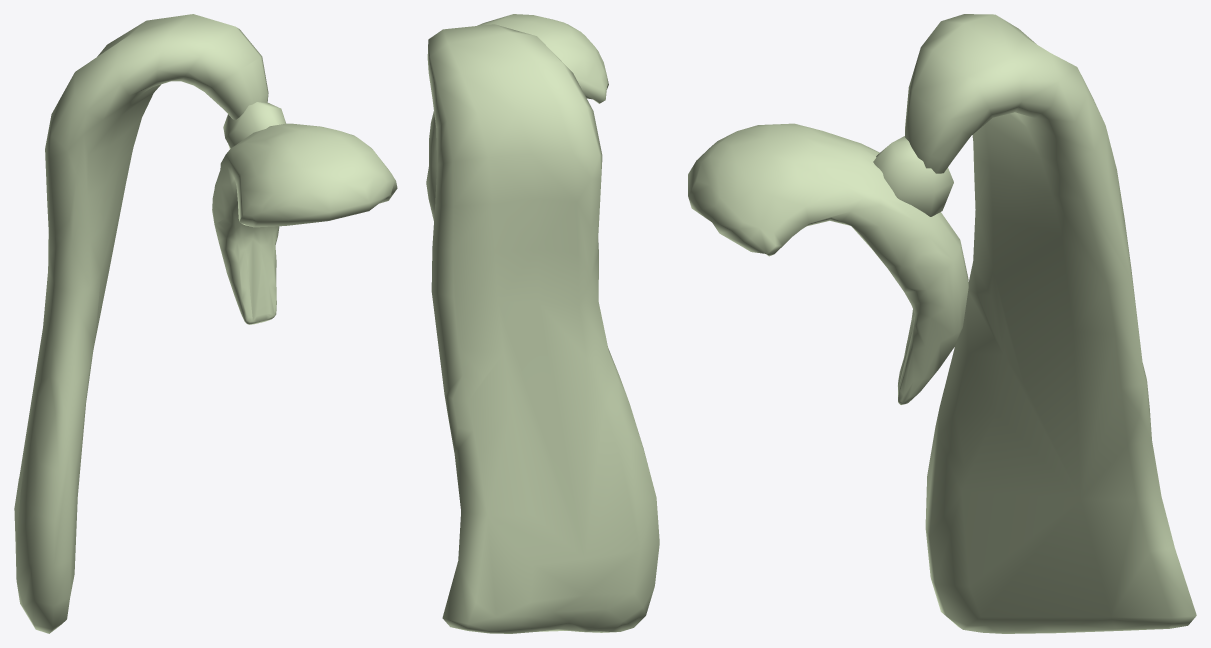
Rendered from Mane_07.fbx.
3 views of the same model, side by side, from view 1: azimuth 30°, elevation 25°; view 2: azimuth 150°, elevation 25°; view 3: azimuth 270°, elevation 25° (orthographic). The views are drawn at different scales.
Visible parts, largest first — view 1: Mane_07; view 2: Mane_07; view 3: Mane_07.
Boxes of the visible parts, x1,y1,x2,y2 form: Mane_07: [14, 14, 397, 633]; Mane_07: [426, 14, 659, 633]; Mane_07: [688, 14, 1196, 633].
Size of the model in its own units: 207 by 395 by 270.
